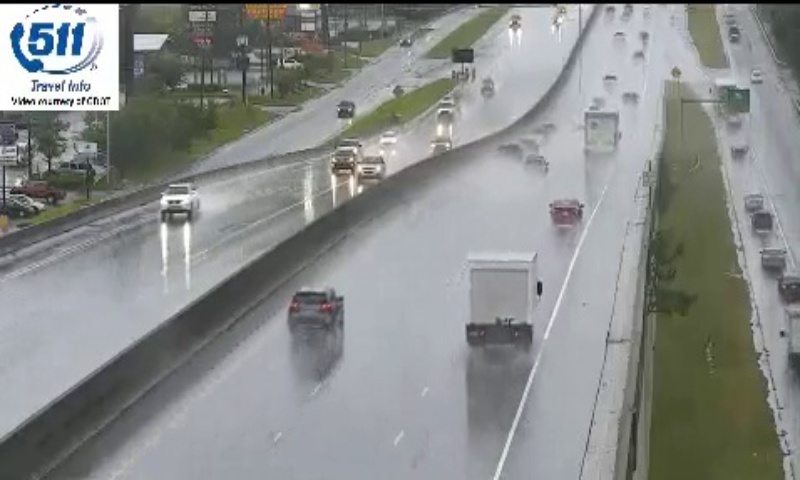car: (287, 287, 344, 327), (550, 200, 582, 226)
small-truck: (465, 251, 538, 342), (583, 110, 619, 158)
